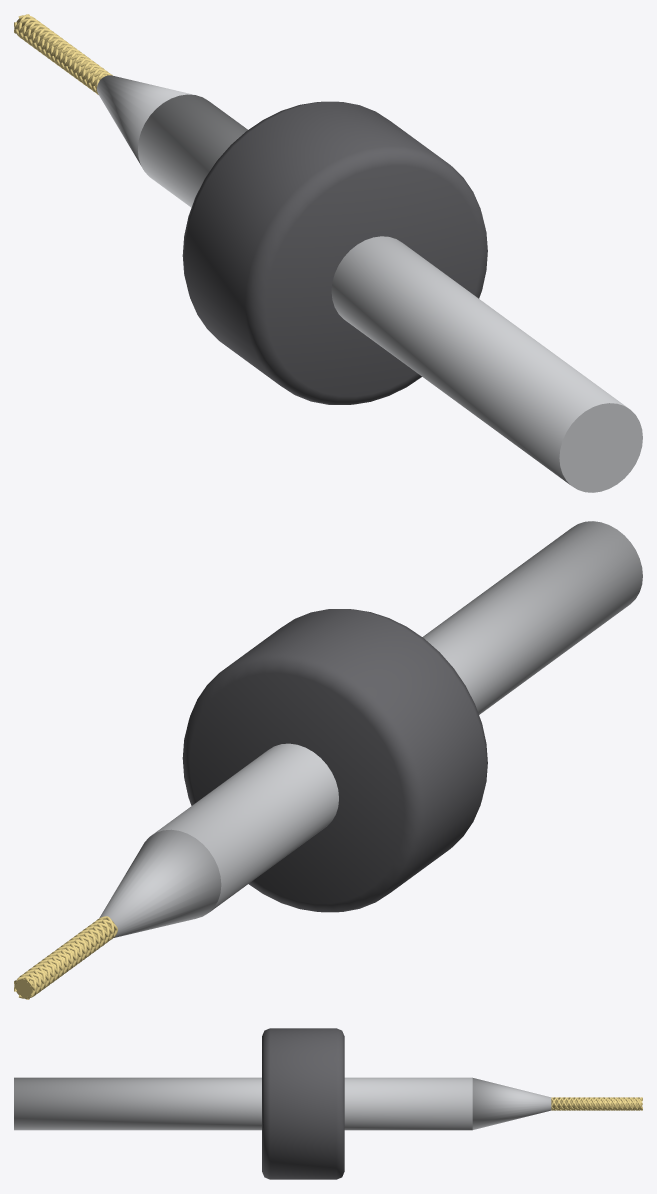
Rendered from corn18_0p8.glb.
3 renders of one model, top to bottom at view 1: azimuth 30°, elevation 25°; view 2: azimuth 150°, elevation 25°; view 3: azimuth 270°, elevation 25°, orthographic. The views are drawn at different scales.
Visible parts, largest first — view 1: Cylinder.002, Cylinder.001, Cone; view 2: Cylinder.002, Cylinder.001, Cone, Cylinder; view 3: Cylinder.001, Cylinder.002, Cone, Cylinder.
Boxes of the visible parts, bbox=[...] form: Cylinder.002: bbox=[182, 101, 487, 404]; Cylinder.001: bbox=[138, 94, 642, 492]; Cone: bbox=[97, 75, 194, 164]; Cylinder.002: bbox=[182, 609, 487, 912]; Cylinder.001: bbox=[152, 521, 642, 911]; Cone: bbox=[99, 829, 221, 937]; Cylinder: bbox=[15, 918, 115, 997]; Cylinder.001: bbox=[14, 1077, 472, 1130]; Cylinder.002: bbox=[262, 1028, 344, 1179]; Cone: bbox=[472, 1078, 551, 1129]; Cylinder: bbox=[551, 1098, 642, 1109].
Bounding box in the file's own units: 0.00917 × 0.00917 × 0.038.
